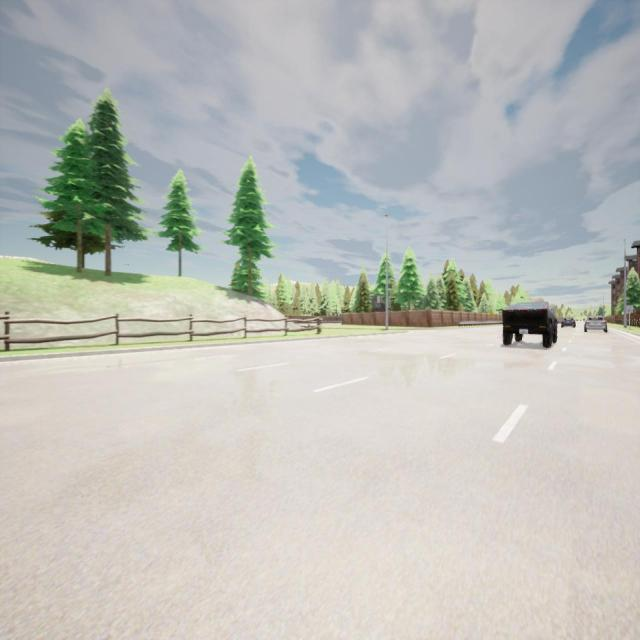Traffic_Signs: (626, 306, 633, 313)
Vehicle: (503, 300, 558, 348), (584, 316, 608, 332), (561, 316, 576, 328)
